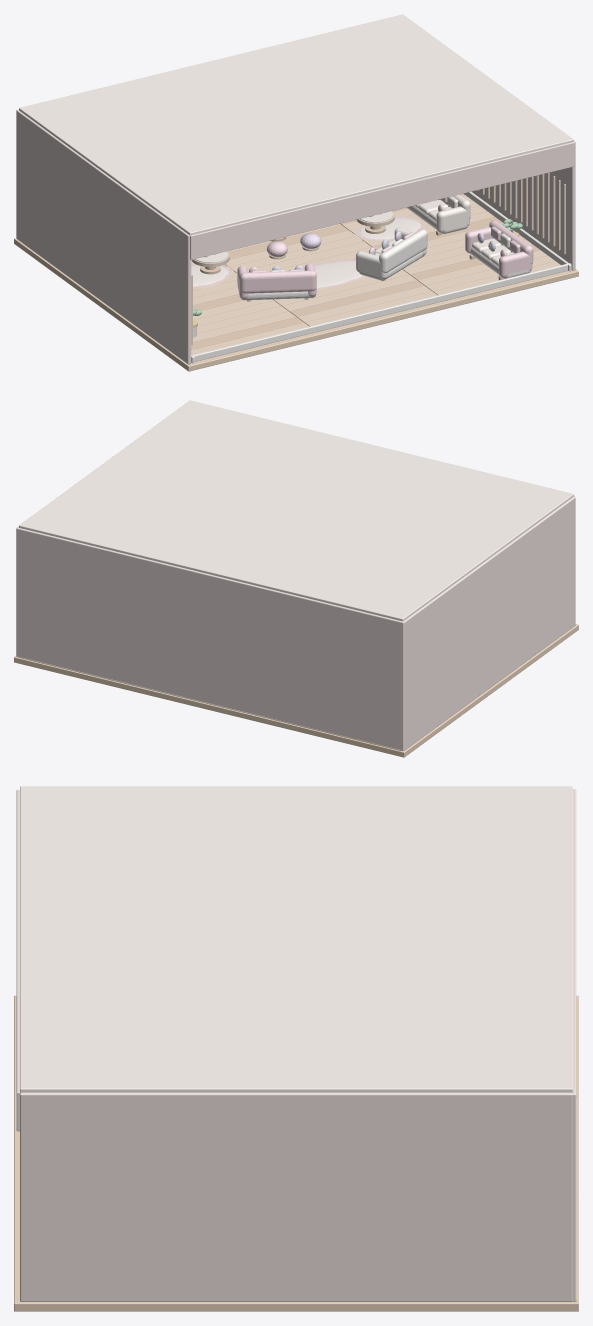
File: music_box_room.glb
3 views of the same model, one above another, from view 1: azimuth 30°, elevation 25°; view 2: azimuth 150°, elevation 25°; view 3: azimuth 270°, elevation 25° (orthographic). The views are drawn at different scales.
Visible parts, largest first — view 1: ceiling__2__ceiling_surface_0, walls__1__left_wall_1, walls__1__rear_wall_lintel_3, floor__0__floor_foundation_0, walls__1__right_wall_2, walls__1__floor_baseboard_73, sofa_B_rose__12__sofa_backrest_1, sofa_B_white__13__sofa_backrest_1, floor__0__oak_floor_plank_56, floor__0__oak_floor_plank_59, floor__0__oak_floor_plank_62, carpet_5.1_2.6__22__rug_inset_1 (+25 smaller); view 2: ceiling__2__ceiling_surface_0, walls__1__tv_back_wall_0, walls__1__left_wall_1, floor__0__floor_foundation_0; view 3: ceiling__2__ceiling_surface_0, walls__1__right_wall_2, floor__0__floor_foundation_0, walls__1__tv_back_wall_0, walls__1__rear_wall_lintel_3.
Part boxes in pixels (bbox=[...]): ceiling__2__ceiling_surface_0: bbox=[19, 14, 573, 235]; walls__1__left_wall_1: bbox=[17, 110, 191, 364]; walls__1__rear_wall_lintel_3: bbox=[190, 142, 574, 259]; floor__0__floor_foundation_0: bbox=[14, 238, 578, 371]; walls__1__right_wall_2: bbox=[472, 140, 575, 270]; walls__1__floor_baseboard_73: bbox=[191, 263, 571, 361]; sofa_B_rose__12__sofa_backrest_1: bbox=[239, 270, 316, 293]; sofa_B_white__13__sofa_backrest_1: bbox=[379, 229, 427, 272]; floor__0__oak_floor_plank_56: bbox=[282, 274, 416, 311]; floor__0__oak_floor_plank_59: bbox=[289, 280, 424, 316]; floor__0__oak_floor_plank_62: bbox=[297, 286, 431, 322]; carpet_5.1_2.6__22__rug_inset_1: bbox=[304, 261, 362, 287]; ceiling__2__ceiling_surface_0: bbox=[19, 400, 573, 621]; walls__1__tv_back_wall_0: bbox=[16, 527, 404, 750]; walls__1__left_wall_1: bbox=[404, 496, 575, 749]; floor__0__floor_foundation_0: bbox=[14, 624, 578, 757]; ceiling__2__ceiling_surface_0: bbox=[20, 786, 572, 1092]; walls__1__right_wall_2: bbox=[20, 1092, 572, 1301]; floor__0__floor_foundation_0: bbox=[14, 995, 578, 1311]; walls__1__tv_back_wall_0: bbox=[571, 789, 576, 1301]; walls__1__rear_wall_lintel_3: bbox=[16, 790, 19, 1131].
Bounding box in the file's own units: 18.7 × 6.26 × 14.5.
